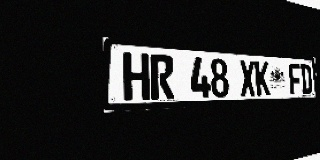4: (190, 57, 211, 98)
8: (210, 58, 229, 98)
D: (300, 64, 312, 94)
F: (289, 63, 302, 95)
H: (123, 52, 150, 101)
K: (255, 61, 270, 96)
R: (150, 54, 174, 100)
X: (239, 60, 256, 96)
